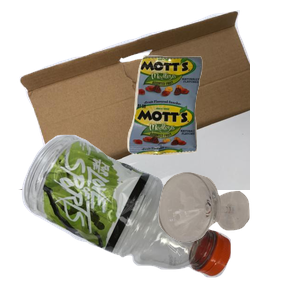cardboard: (16, 10, 256, 190)
glass: (156, 170, 300, 300)
plastic: (19, 132, 242, 300)
trash: (125, 53, 300, 201)
